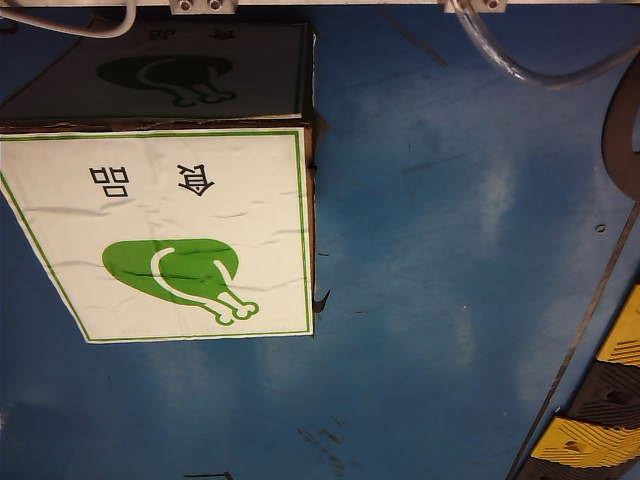Cube_food: (86, 157, 284, 329)
